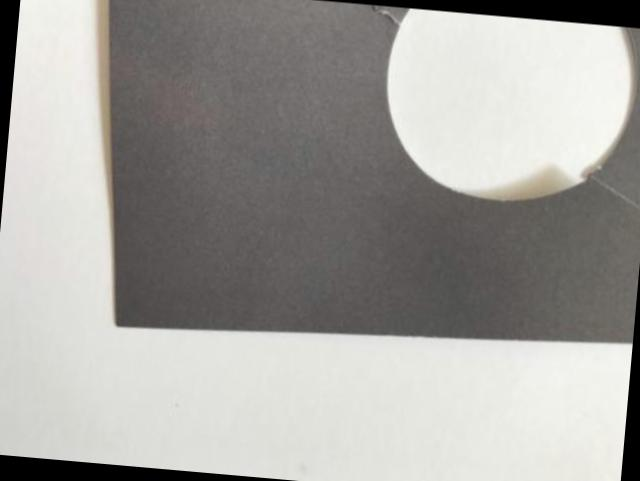cardboard paper: (111, 0, 640, 339)
